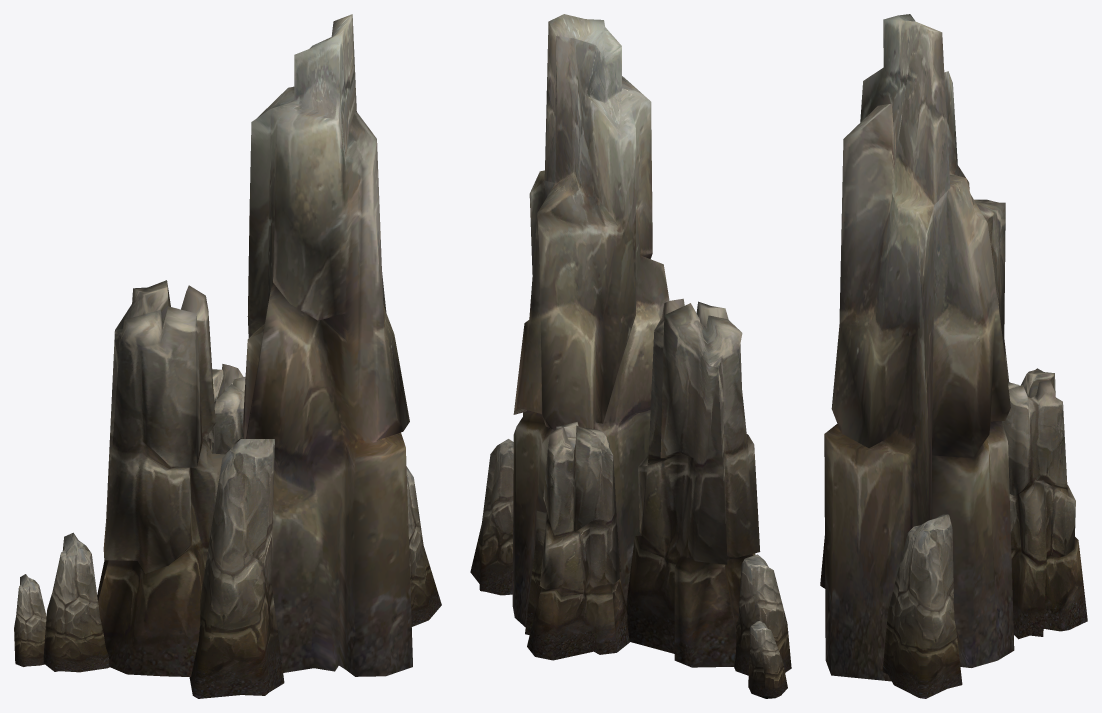
File: borean_rocklarge_01.obj
The picture shows the model from 3 angles, left to right: view 1: azimuth 30°, elevation 25°; view 2: azimuth 150°, elevation 25°; view 3: azimuth 270°, elevation 25°; orthographic projection. The views are drawn at different scales.
Visible parts, largest first — view 1: Geoset2, Geoset1, Geoset0; view 2: Geoset2, Geoset1, Geoset0; view 3: Geoset2, Geoset1, Geoset0.
Boxes of the visible parts, x1=… form: Geoset2: x1=231, y1=14, x2=412, y2=676; Geoset1: x1=97, y1=280, x2=245, y2=676; Geoset0: x1=14, y1=439, x2=441, y2=698; Geoset2: x1=512, y1=14, x2=669, y2=626; Geoset1: x1=525, y1=298, x2=760, y2=667; Geoset0: x1=470, y1=439, x2=791, y2=698; Geoset2: x1=824, y1=14, x2=1014, y2=681; Geoset1: x1=974, y1=199, x2=1087, y2=639; Geoset0: x1=820, y1=514, x2=962, y2=698.
Size of the model in its own units: 13.23 by 20.94 by 7.9.
Materials: 3 (3 with a texture image).
